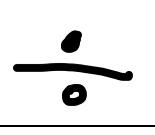div: (12, 30, 132, 106)
